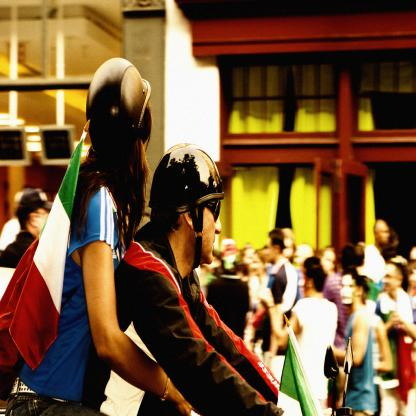Helmet: (77, 54, 149, 227), (144, 147, 226, 267), (85, 55, 151, 139)
